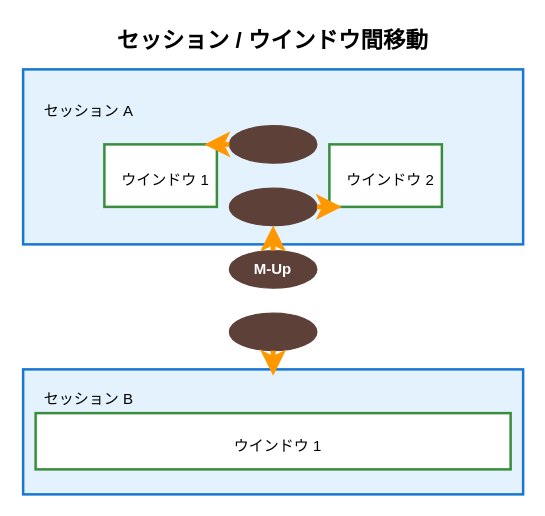
This 545x516 diagram has some shape labels left out. Each missing label, with the centre of its shape:
"M-Down" goes at [272,331].
"M-Left" goes at [272,143].
"M-Right" goes at [272,206].
